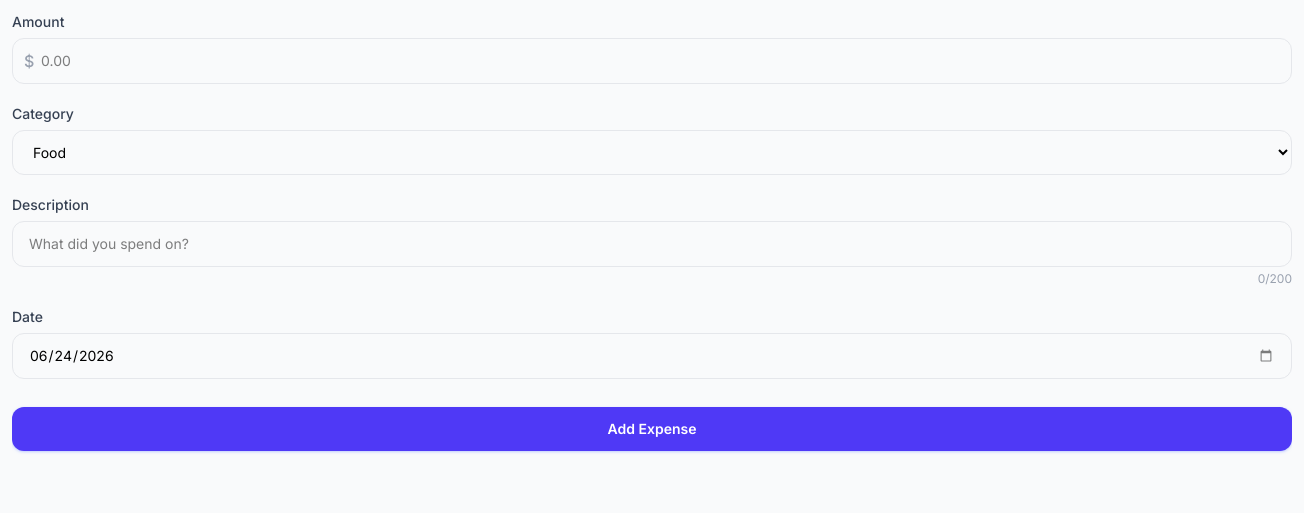
ExpenseForm — validation › shows an error when amount is empty on submit
Click the button "Add Expense": [652, 429] box left=12, top=407, right=1292, bottom=451
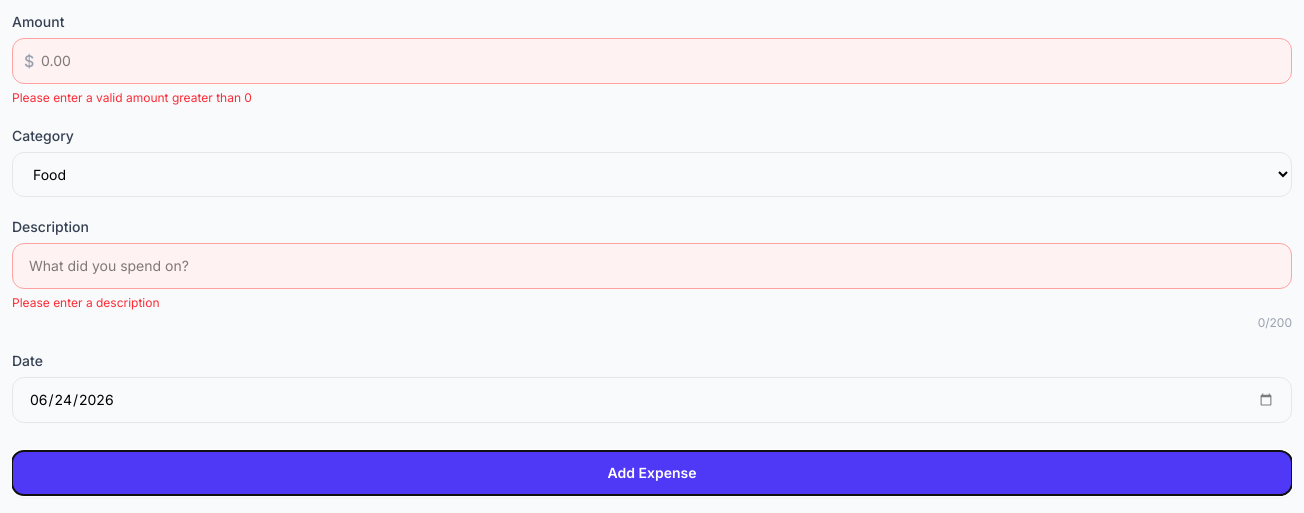
Result: the text "Please enter a valid amount greater than 0" is shown at left=12, top=90, right=252, bottom=105
